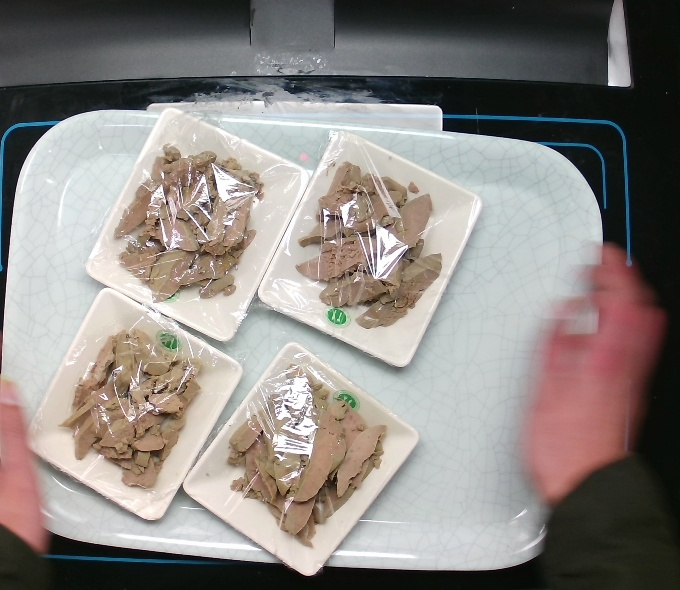wcq-EGan: (230, 366, 386, 549), (291, 157, 447, 331), (115, 140, 270, 309), (64, 320, 206, 487)
